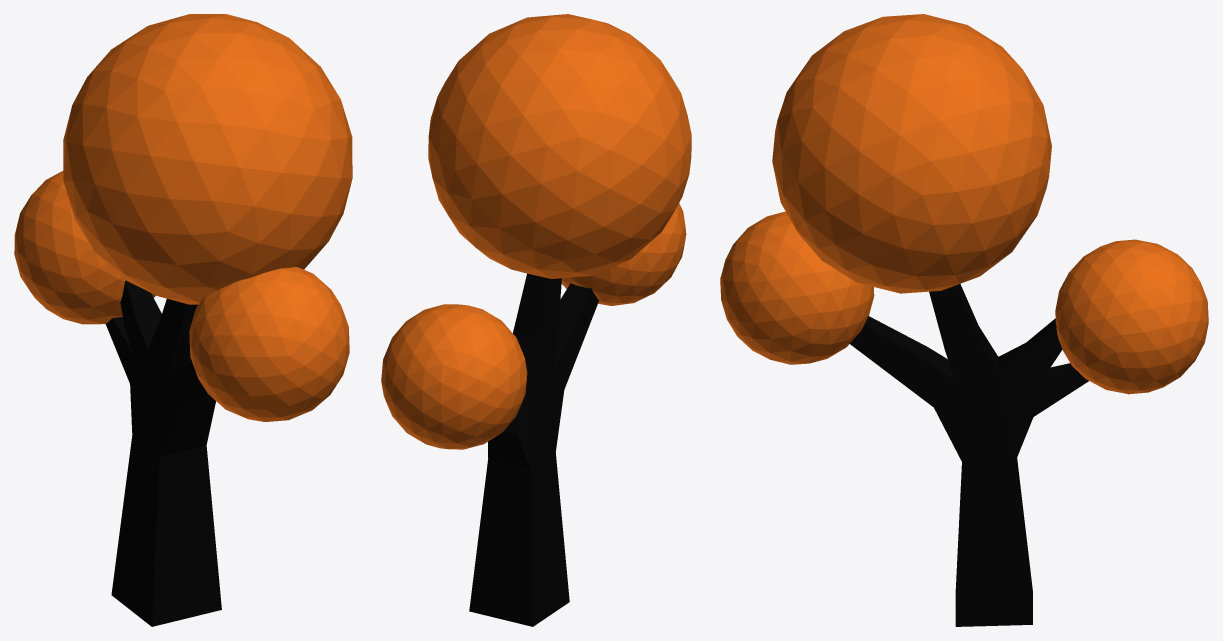
Rendered from HotTrees3.fbx.
The picture shows the model from 3 angles, left to right: view 1: azimuth 30°, elevation 25°; view 2: azimuth 150°, elevation 25°; view 3: azimuth 270°, elevation 25°; orthographic projection. The views are drawn at different scales.
Parts seen in each view (by area): view 1: Icosphere.002, Cube.001, Icosphere.003, Icosphere.001; view 2: Icosphere.002, Cube.001, Icosphere.001, Icosphere.003; view 3: Icosphere.002, Cube.001, Icosphere.001, Icosphere.003.
Part boxes in pixels (x1,y1,x2,y2): Icosphere.002: (63,14,352,304); Cube.001: (105,280,221,626); Icosphere.003: (189,267,349,421); Icosphere.001: (14,171,155,324); Icosphere.002: (428,14,691,278); Cube.001: (469,273,598,626); Icosphere.001: (381,304,527,449); Icosphere.003: (561,203,686,305); Icosphere.002: (772,14,1051,293); Cube.001: (850,284,1088,626); Icosphere.001: (1055,239,1208,394); Icosphere.003: (720,211,874,364).
Bounding box in the file's own units: 1.51 × 3.48 × 2.65.
